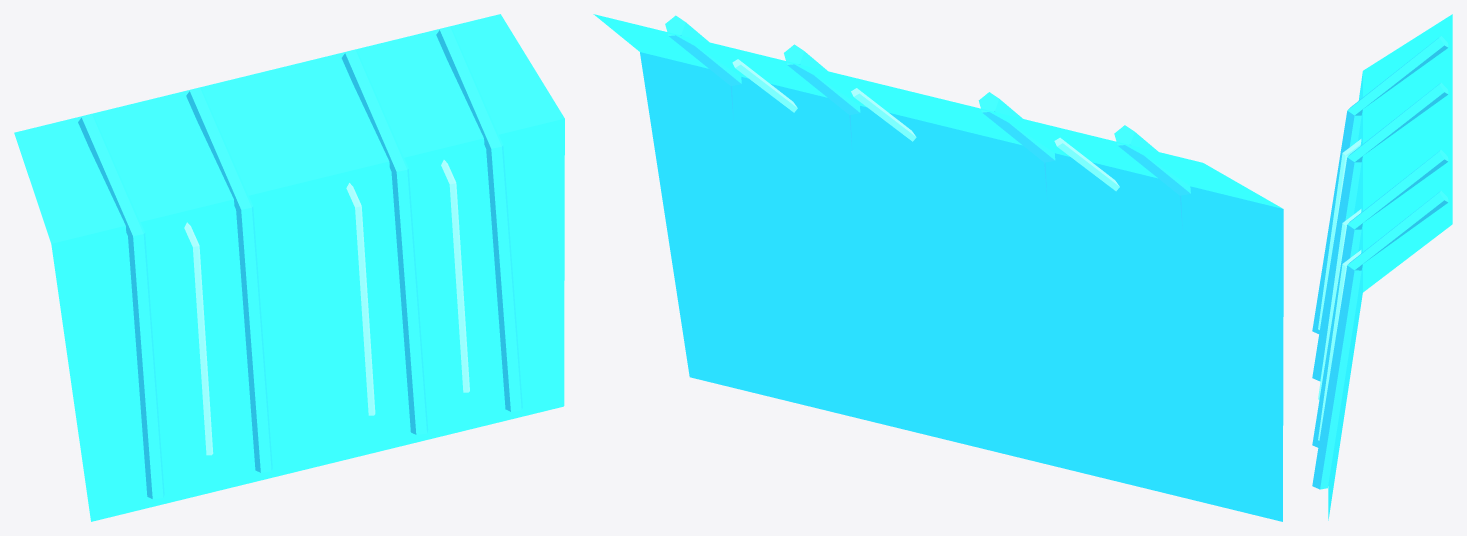
File: forest_waterfall.glb
The picture shows the model from 3 angles, left to right: view 1: azimuth 30°, elevation 25°; view 2: azimuth 150°, elevation 25°; view 3: azimuth 270°, elevation 25°; orthographic projection. The views are drawn at different scales.
Parts seen in each view (by area): view 1: Opaque stylized waterfall, Waterfall foam streak.003, Waterfall foam streak.001, Waterfall foam streak.002, Waterfall foam streak, Waterfall fine streak, Waterfall fine streak.001, Waterfall fine streak.002; view 2: Opaque stylized waterfall, Waterfall foam streak, Waterfall foam streak.001, Waterfall foam streak.003, Waterfall foam streak.002; view 3: Opaque stylized waterfall, Waterfall foam streak.003, Waterfall foam streak.001, Waterfall foam streak, Waterfall foam streak.002, Waterfall fine streak, Waterfall fine streak.001, Waterfall fine streak.002.
Part boxes in pixels (left/top/right/bottom): Opaque stylized waterfall: left=14, top=14, right=564, bottom=521; Waterfall foam streak.003: left=436, top=26, right=522, bottom=411; Waterfall foam streak.001: left=186, top=87, right=272, bottom=472; Waterfall foam streak.002: left=341, top=49, right=428, bottom=434; Waterfall foam streak: left=78, top=113, right=164, bottom=499; Waterfall fine streak: left=184, top=222, right=213, bottom=455; Waterfall fine streak.001: left=346, top=183, right=375, bottom=415; Waterfall fine streak.002: left=441, top=160, right=469, bottom=392; Opaque stylized waterfall: left=593, top=14, right=1283, bottom=521; Waterfall foam streak: left=1114, top=125, right=1190, bottom=233; Waterfall foam streak.001: left=978, top=92, right=1055, bottom=199; Waterfall foam streak.003: left=665, top=15, right=741, bottom=120; Waterfall foam streak.002: left=784, top=44, right=860, bottom=150; Opaque stylized waterfall: left=1328, top=14, right=1452, bottom=520; Waterfall foam streak.003: left=1312, top=190, right=1448, bottom=489; Waterfall foam streak.001: left=1312, top=82, right=1448, bottom=381; Waterfall foam streak: left=1312, top=36, right=1448, bottom=333; Waterfall foam streak.002: left=1312, top=150, right=1448, bottom=447; Waterfall fine streak: left=1318, top=139, right=1361, bottom=329; Waterfall fine streak.001: left=1318, top=209, right=1361, bottom=399; Waterfall fine streak.002: left=1318, top=250, right=1361, bottom=440.
Size of the model in its own units: 0.76 by 0.4906 by 0.2033.
